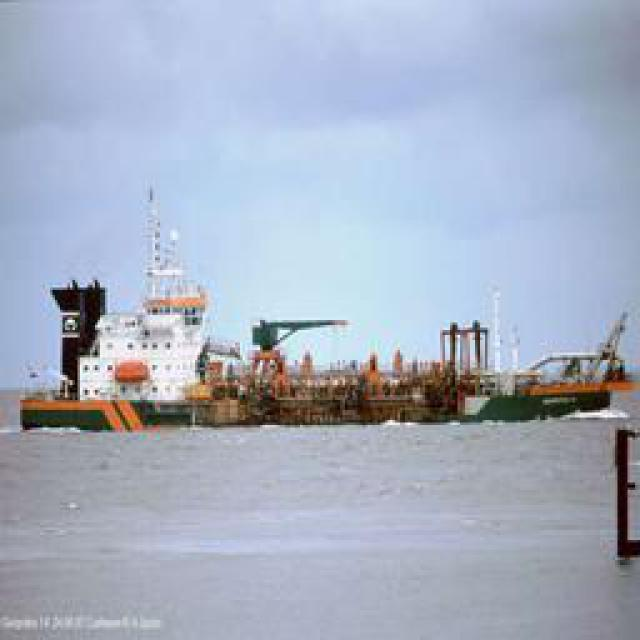Ship: (57, 187, 357, 420)
